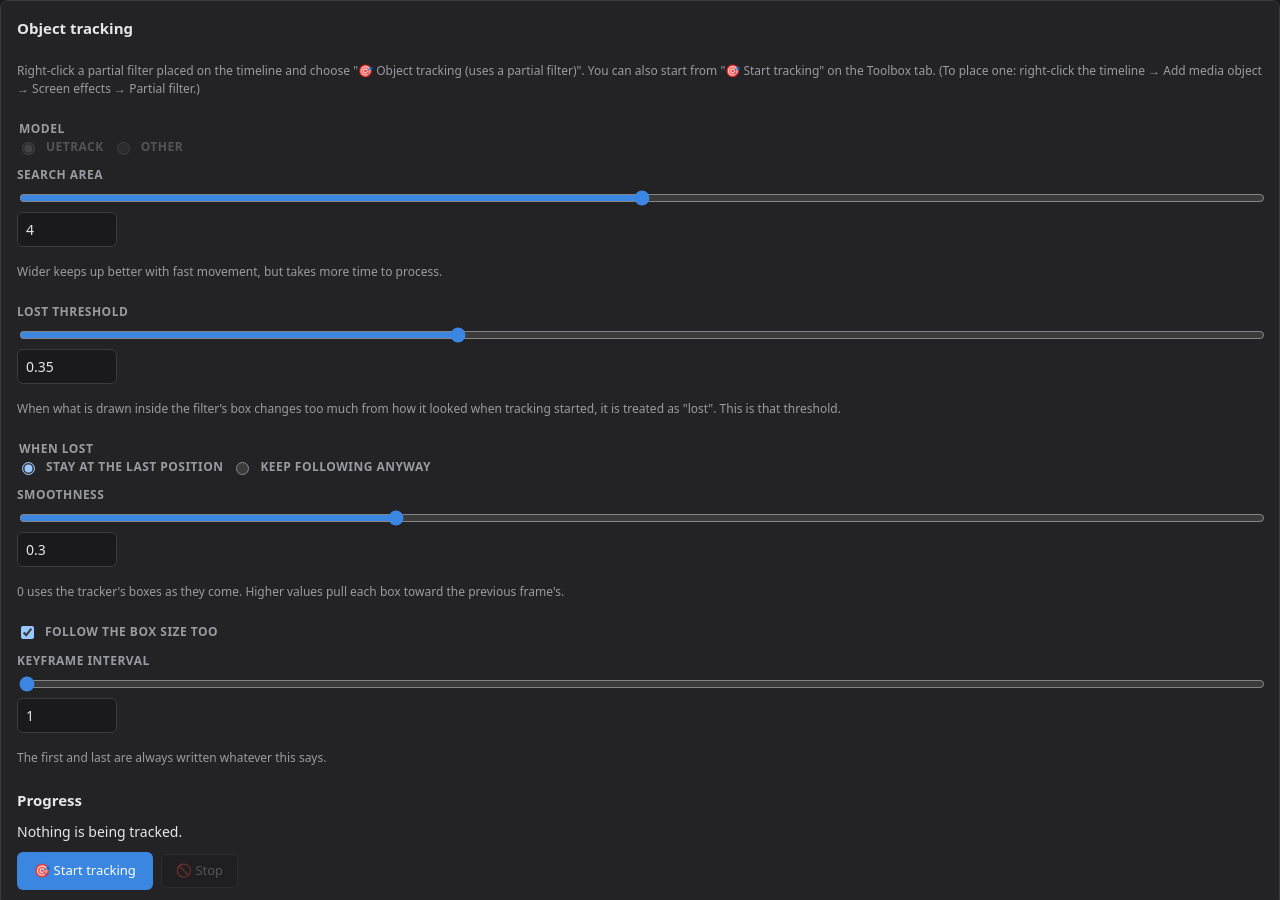
Scenario: ObjectTrackingSection — the start button › names the wrong kind when a video is selected, and starts nothing
Click the button "🎯 Start tracking": (85, 871) [17,852,153,890]
(page scrolled)
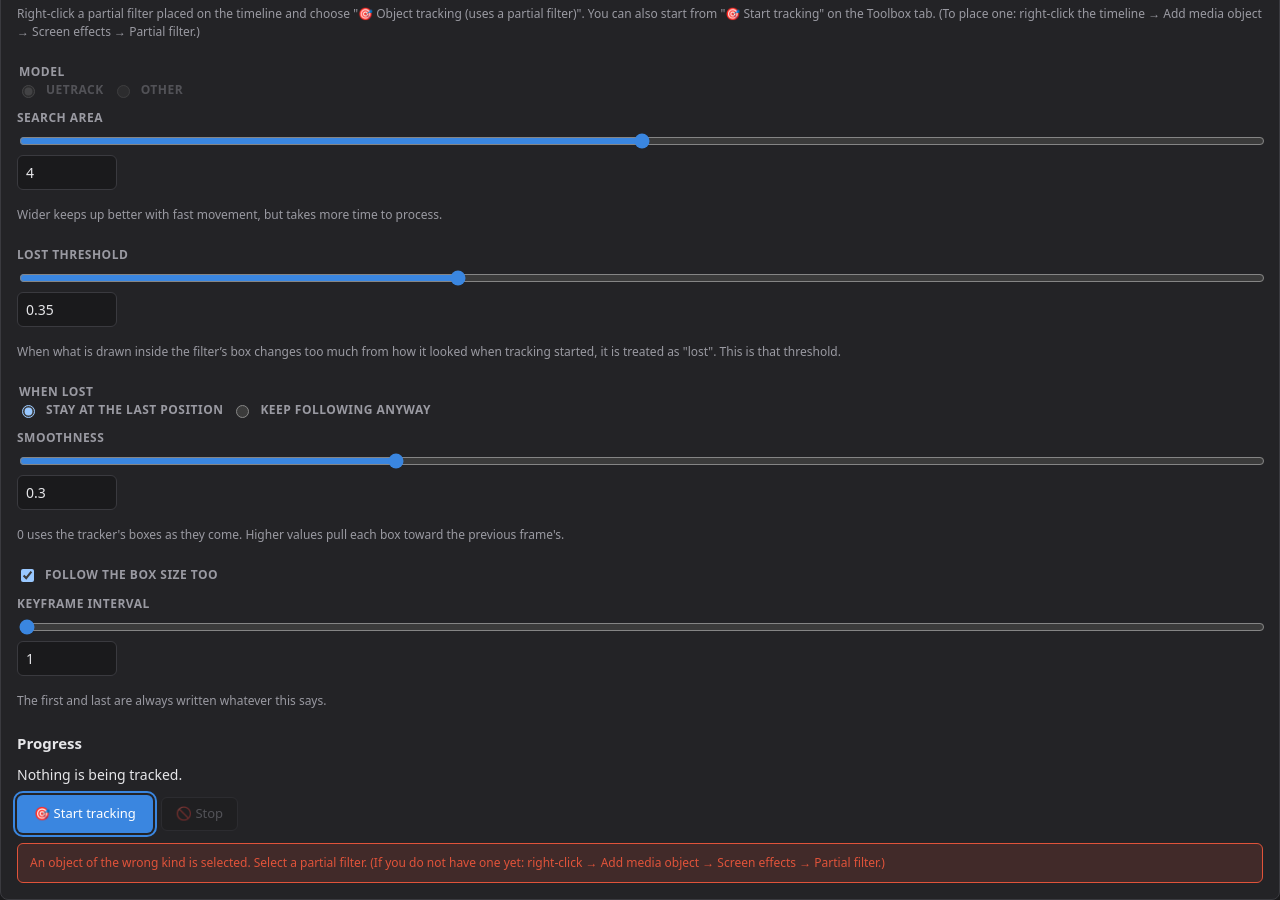
Now the text "An object of the wrong kind is selected" is shown, box [30,854,885,870]
